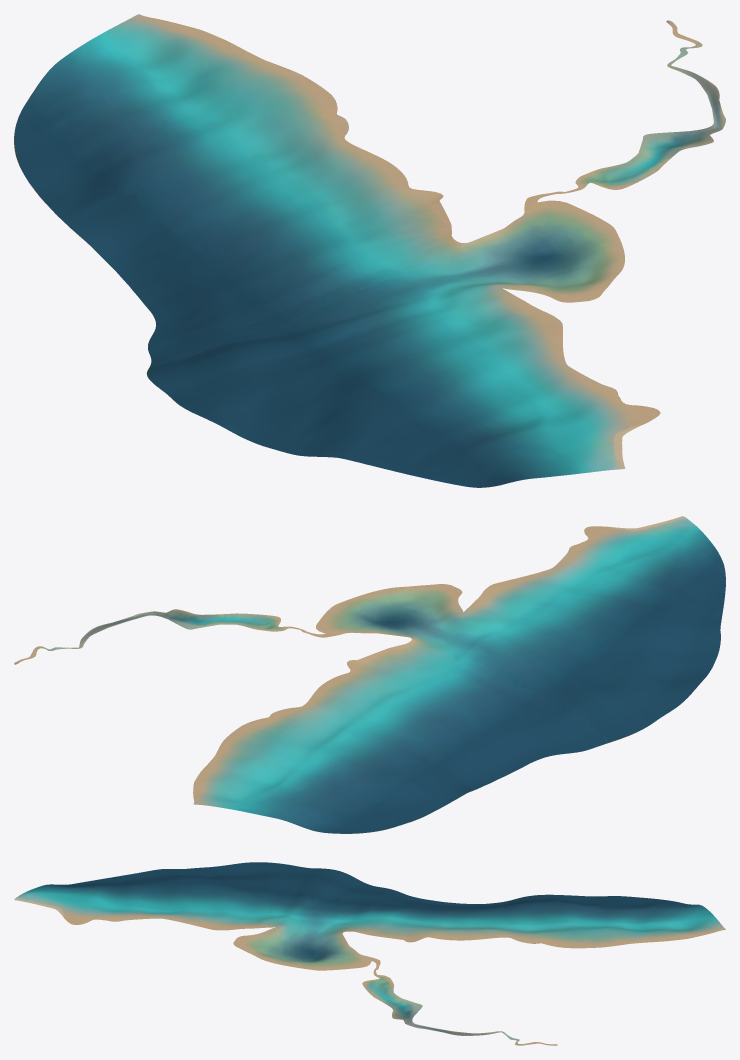
The model's file is Sea-Land_latest.glb.
The picture shows the model from 3 angles, top to bottom: view 1: azimuth 30°, elevation 25°; view 2: azimuth 150°, elevation 25°; view 3: azimuth 270°, elevation 25°; orthographic projection. The views are drawn at different scales.
Visible parts, largest first — view 1: Retopo_Sea Land 1, Sea Land; view 2: Retopo_Sea Land 1, Sea Land; view 3: Retopo_Sea Land 1, Sea Land.
Part boxes in pixels (x1,y1,x2,y2): Retopo_Sea Land 1: (14, 14, 660, 487); Sea Land: (524, 20, 725, 205); Retopo_Sea Land 1: (193, 516, 725, 833); Sea Land: (14, 609, 335, 664); Retopo_Sea Land 1: (14, 862, 725, 970); Sea Land: (362, 957, 557, 1045).
Size of the model in its own units: 12016 by 1050 by 17141.
2 materials, 2 textured.
